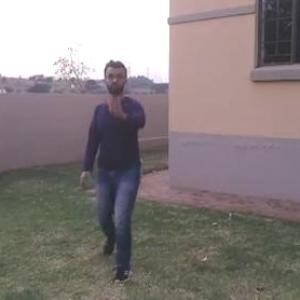takeoff-hand: (100, 85, 130, 122)
